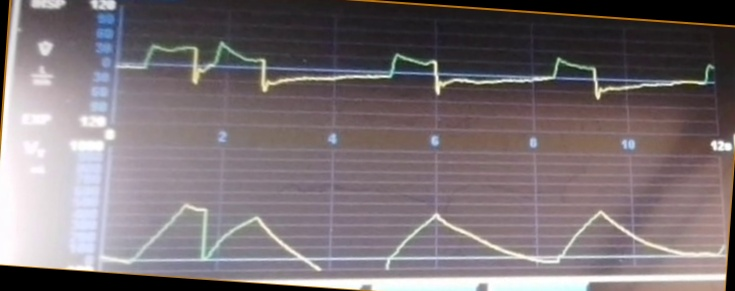Double_Triggering Flow: (124, 28, 714, 121)
Double_Triggering Volume: (111, 182, 723, 269)
